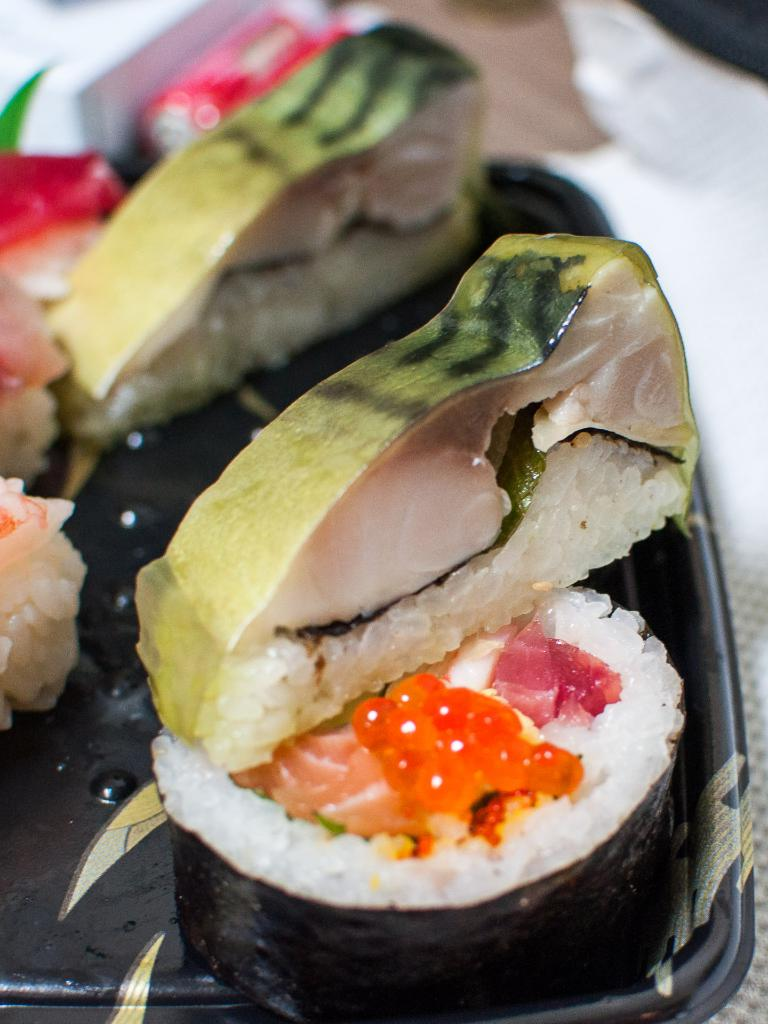sushi: (0, 20, 694, 1021), (188, 591, 691, 990)
